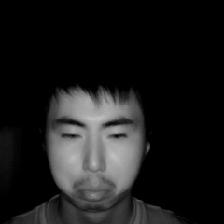sad: (39, 61, 152, 213)
